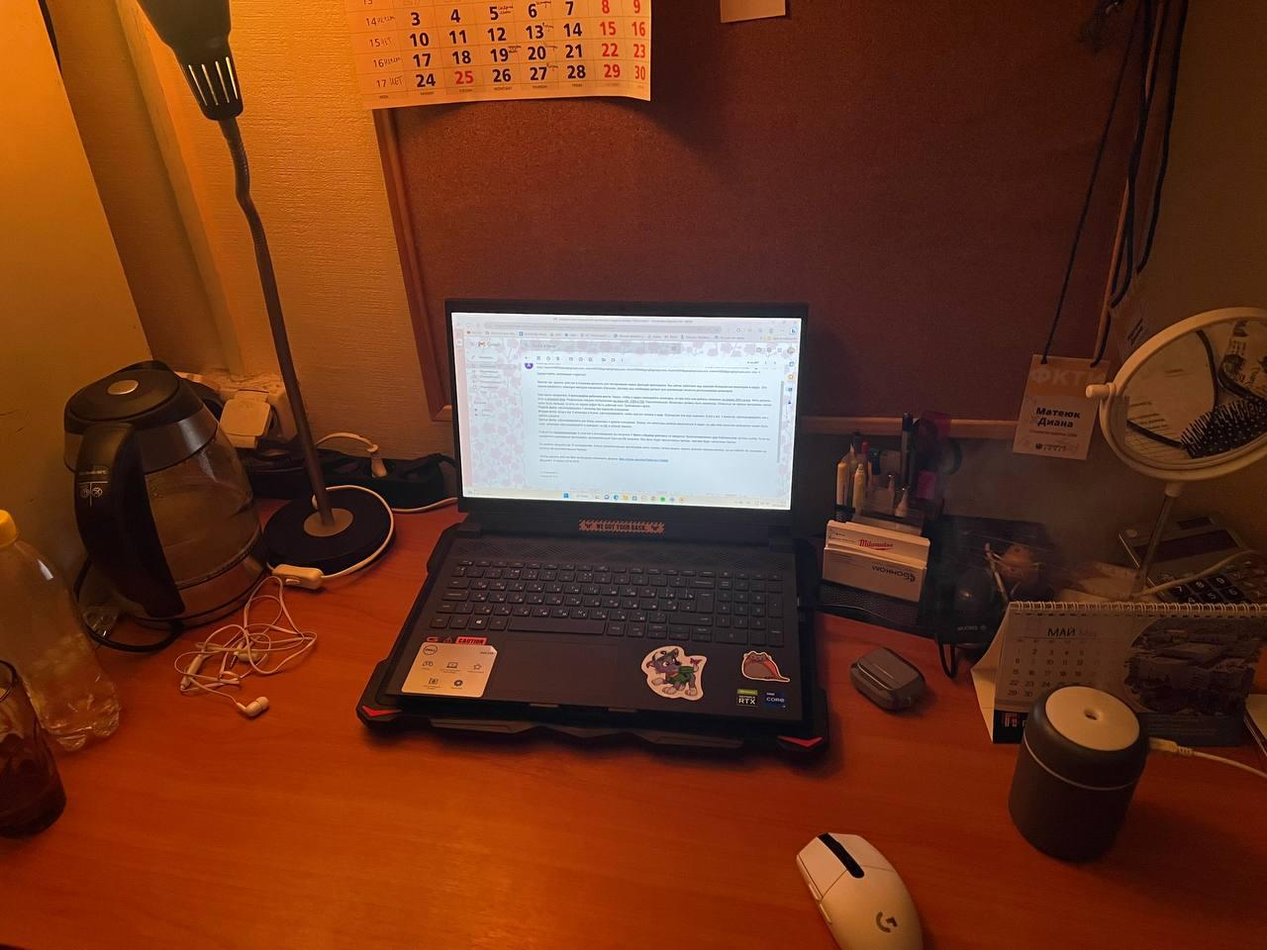monitor: (442, 298, 813, 541)
